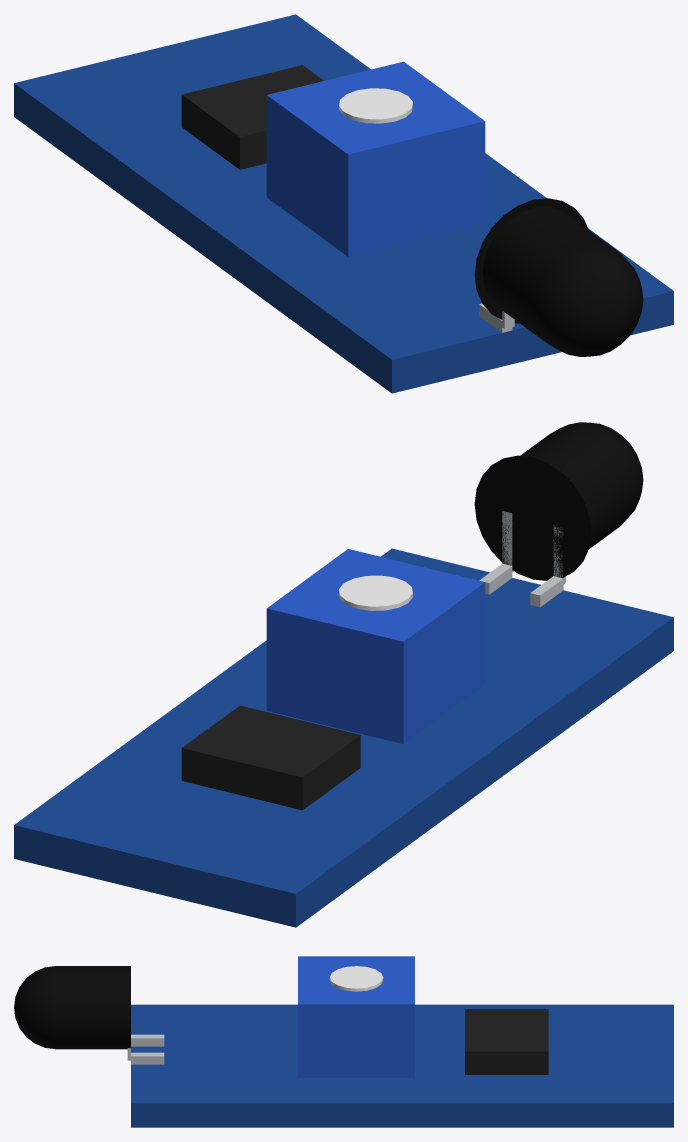
Rendered from gridie-fuego.glb.
The picture shows the model from 3 angles, top to bottom: view 1: azimuth 30°, elevation 25°; view 2: azimuth 150°, elevation 25°; view 3: azimuth 270°, elevation 25°; orthographic projection. The views are drawn at different scales.
Size of the model in its own units: 0.014 by 0.00756 by 0.0395.
